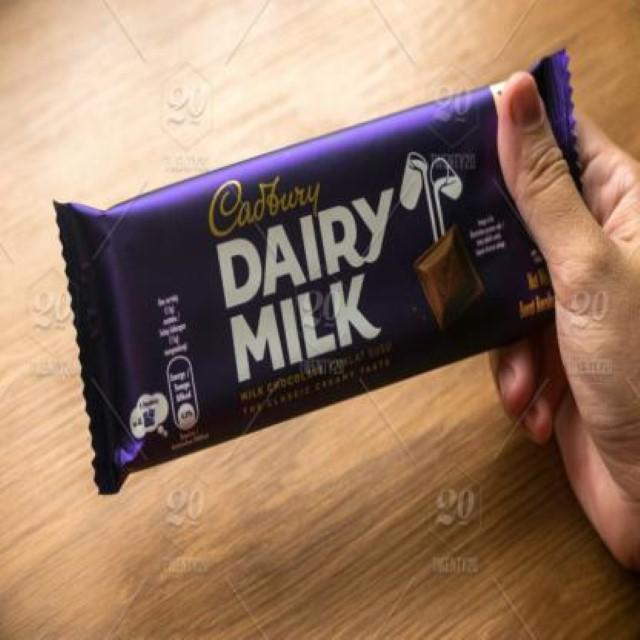cadbury_chocolate: (69, 75, 594, 520)
